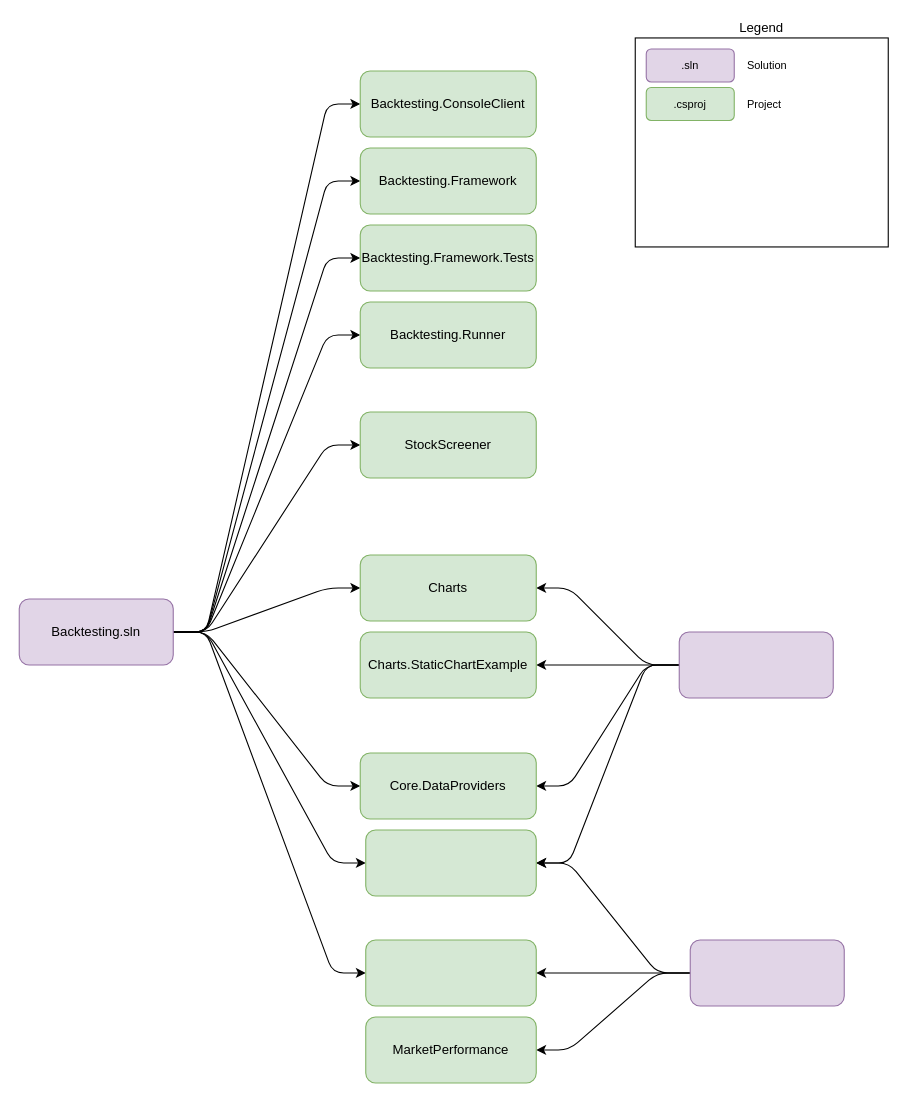
Some shapes in this 908 by 1102 pixel diagram are drawn without their labels. The shapes that lost their labels are listed below. From the top down, each one's centre as x and y in pixels, then its label:
At pixel 755 664: "Charts.StaticChart.sln".
At pixel 450 862: "Core.Model".
At pixel 450 972: "Database".
At pixel 766 972: "Web.sln".
